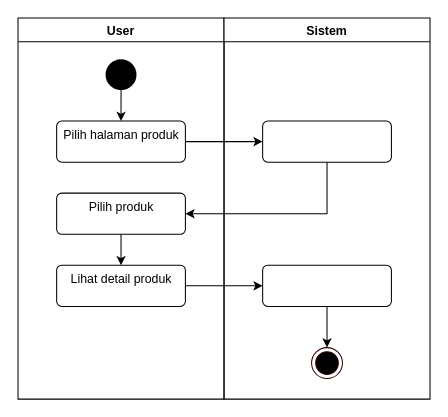
The diagram is 448 pixels wide and 417 high, and some of its shapes have lost their labels. The box of each missing label's shape, as (x1, y1, x2, y2) in pixels:
Menampilkan detail produk: (262, 264, 391, 306)
Menampilkan halaman produk: (262, 120, 391, 162)
